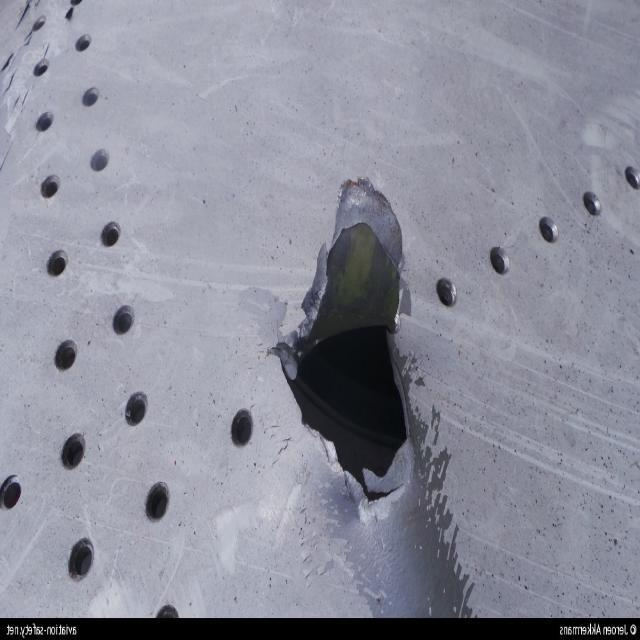crack: (274, 169, 430, 521)
